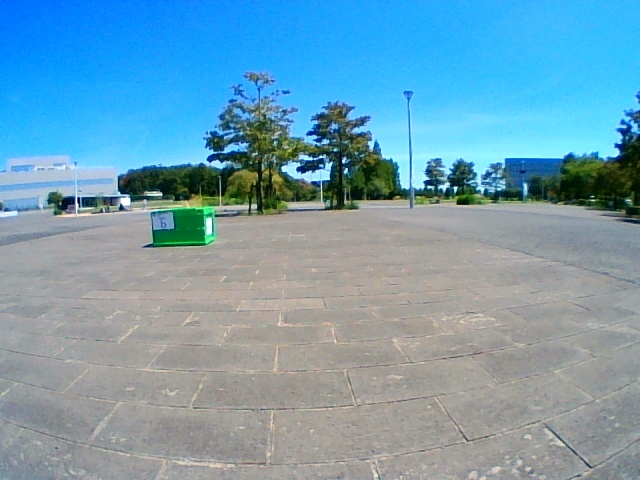green_box: (151, 207, 214, 244)
tag_b: (152, 214, 172, 229)
